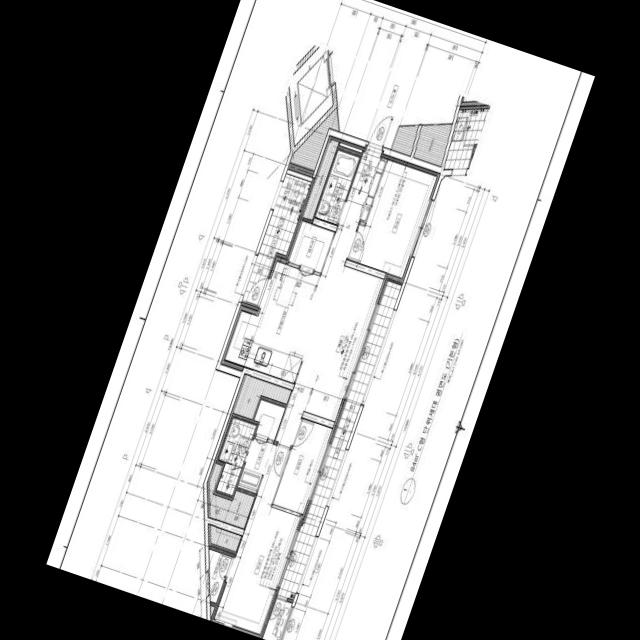background: (46, 0, 594, 640)
space_balconi: (277, 280, 401, 599), (242, 169, 312, 306)
space_bedroom: (211, 444, 302, 638), (348, 156, 439, 283), (273, 418, 334, 518)
space_dressroom: (237, 399, 285, 492)
space_front: (339, 145, 388, 229)
space_kitchen: (221, 255, 331, 382)
space_living_room: (275, 223, 385, 445)
space_other: (301, 135, 339, 219), (207, 462, 254, 528), (231, 373, 291, 419), (286, 220, 334, 272), (209, 548, 232, 602), (208, 524, 241, 553), (210, 605, 214, 617)
space_outdoor_room: (262, 597, 292, 640)
space_toilet: (315, 149, 359, 224), (216, 417, 256, 495)
